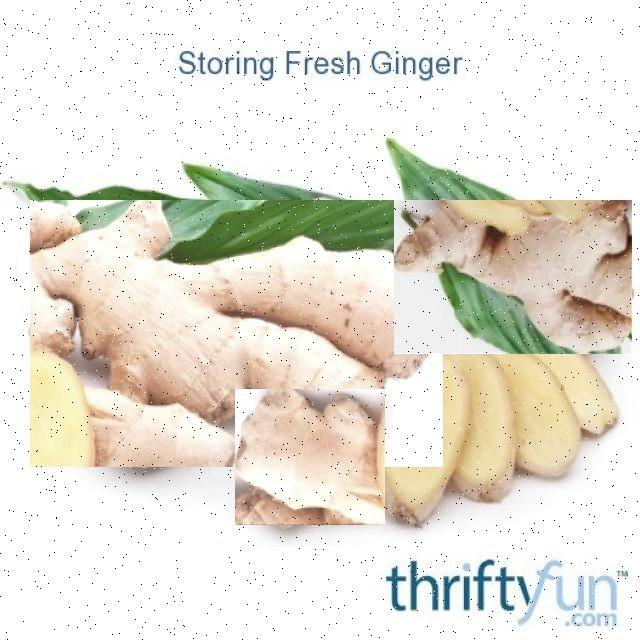ginger: (29, 199, 442, 466), (394, 200, 630, 352), (235, 388, 384, 523)
